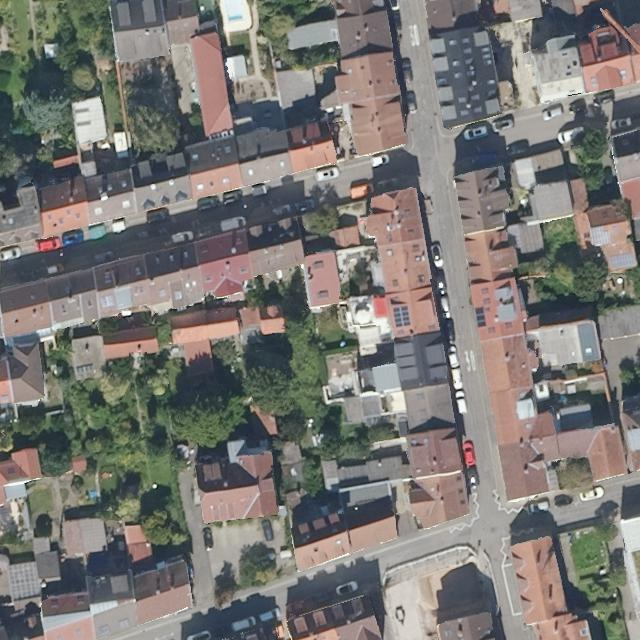PV: (390, 304, 412, 329), (473, 304, 487, 328)
